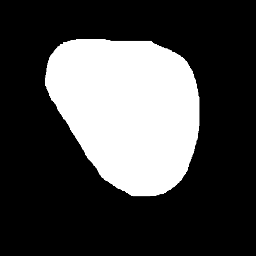mass: (48, 33, 208, 182)
